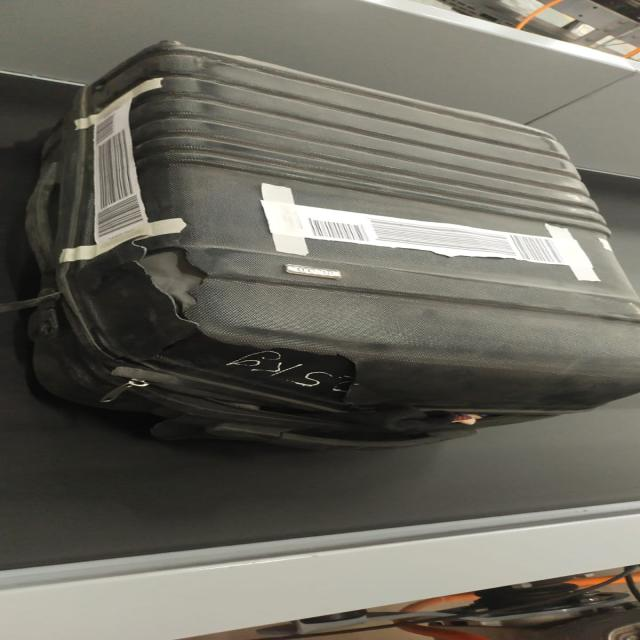Damage-bag: (139, 249, 206, 312)
